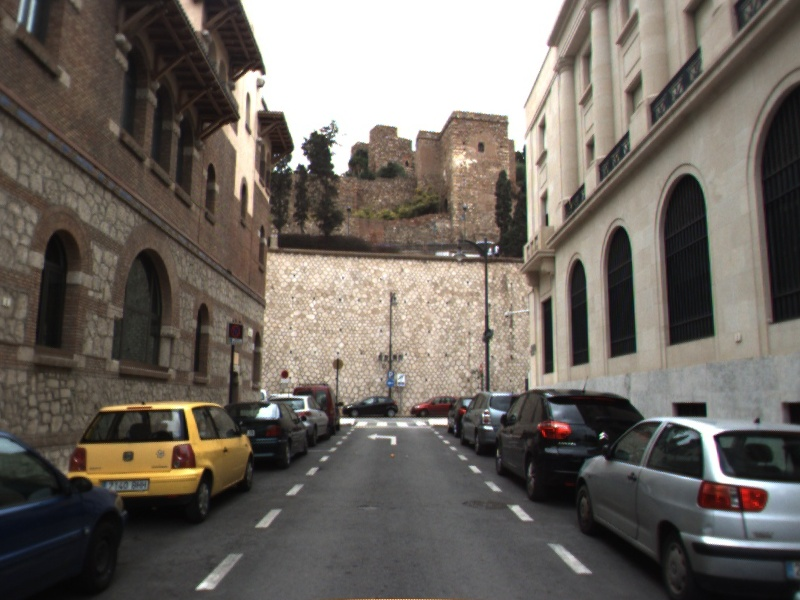LEFT: (365, 431, 399, 447)
